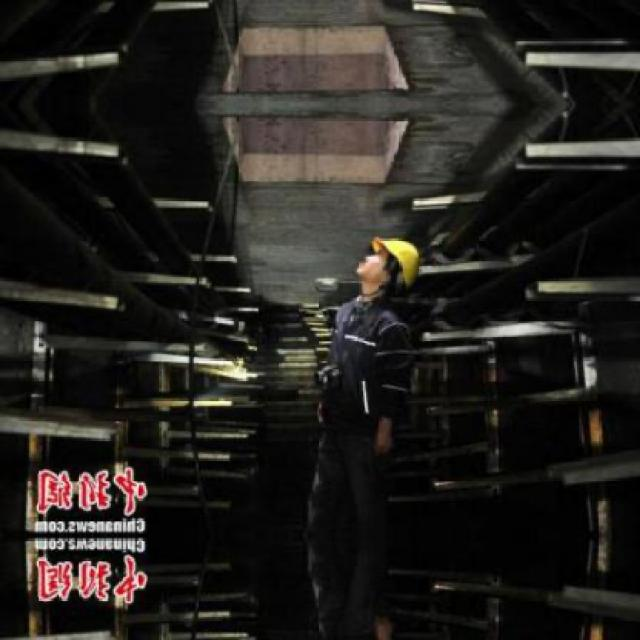helmet: (359, 234, 426, 300)
